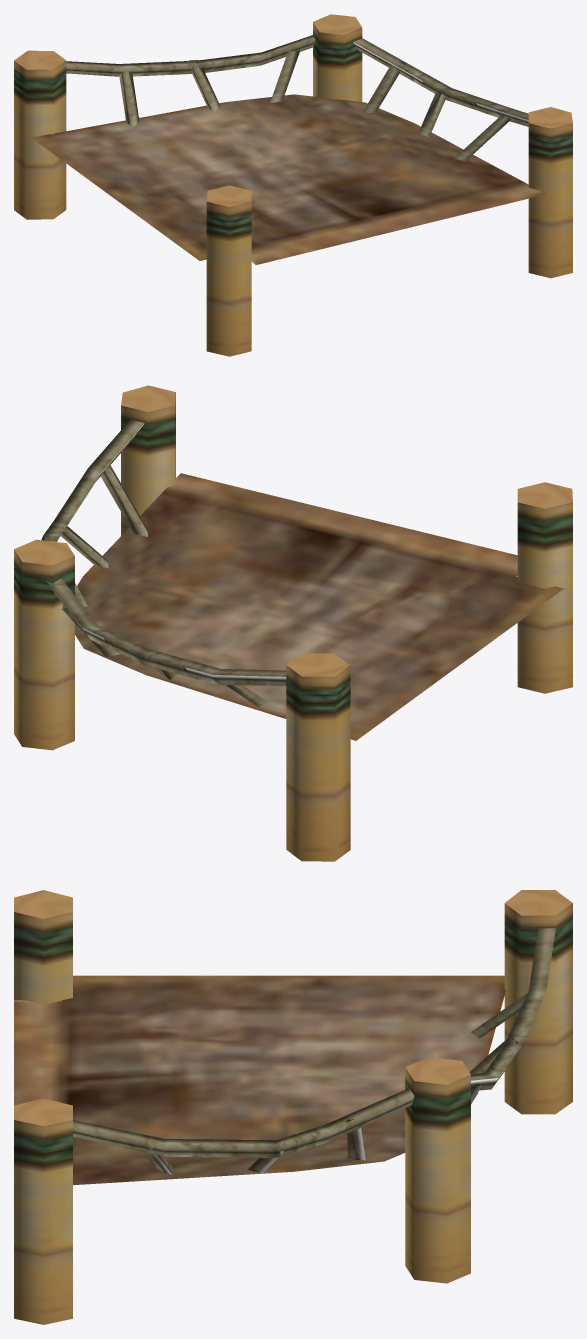
Rendered from jun_tile_corner.obj.
3 renders of one model, top to bottom at view 1: azimuth 30°, elevation 25°; view 2: azimuth 150°, elevation 25°; view 3: azimuth 270°, elevation 25°, orthographic. The views are drawn at different scales.
Visible parts, largest first — view 1: tile_corner04; view 2: tile_corner04; view 3: tile_corner04.
Boxes of the visible parts, left/top/right/bottom form: tile_corner04: left=14, top=14, right=572, bottom=356; tile_corner04: left=14, top=385, right=572, bottom=861; tile_corner04: left=14, top=890, right=572, bottom=1324.
Size of the model in its own units: 1 by 0.3923 by 1.
1 material, 1 textured.
